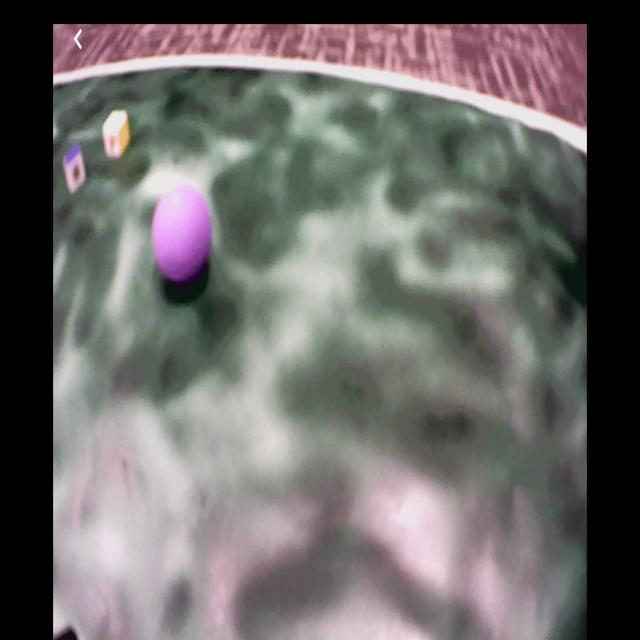ball: (152, 185, 213, 283)
